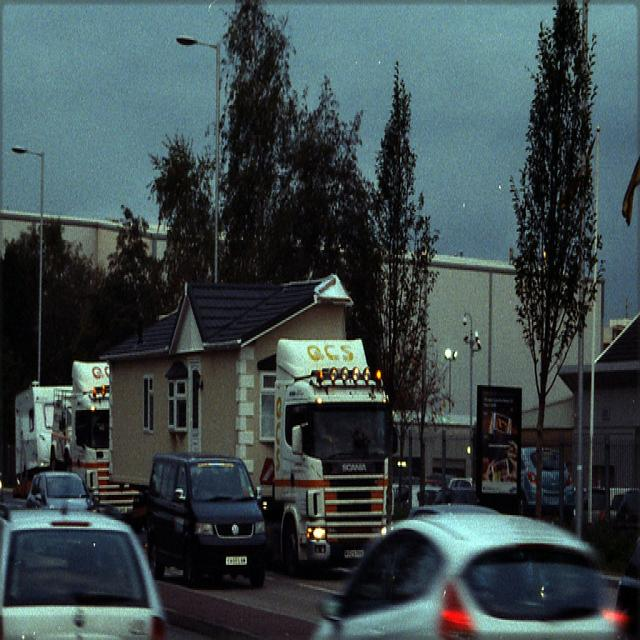Vehicle: (306, 505, 628, 635), (254, 339, 394, 575), (1, 511, 172, 640), (141, 452, 271, 589), (49, 362, 144, 515), (520, 446, 576, 529), (26, 471, 100, 512), (582, 487, 638, 520), (392, 486, 412, 517), (446, 477, 474, 492), (425, 478, 438, 487)
